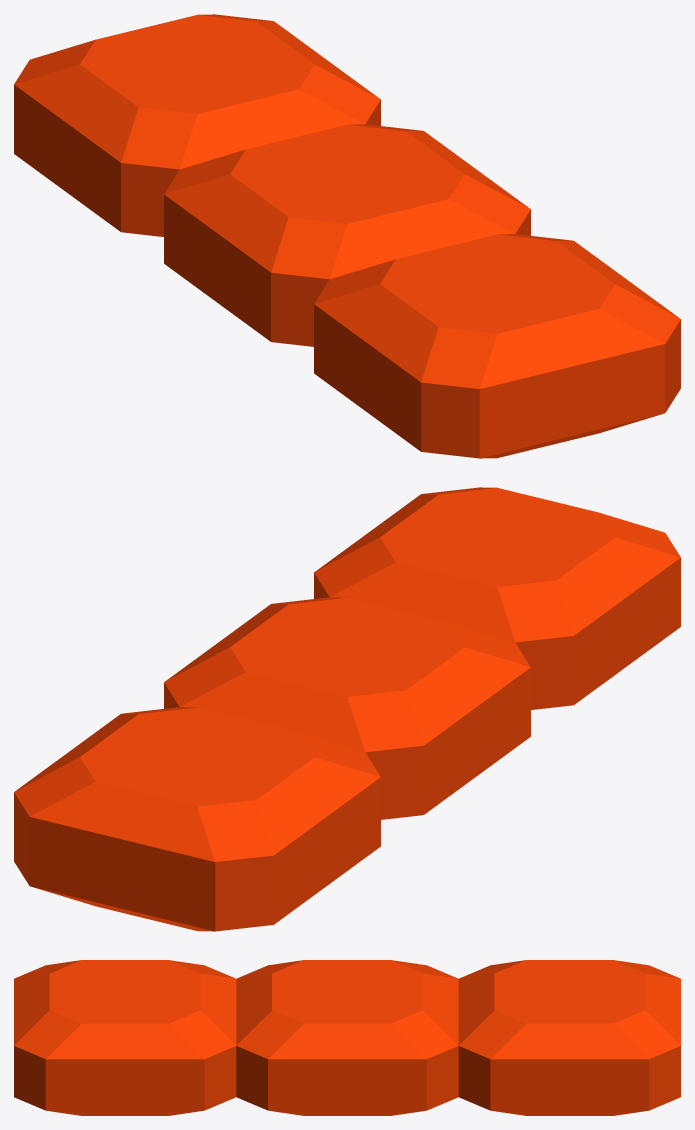
3 renders of one model, top to bottom at view 1: azimuth 30°, elevation 25°; view 2: azimuth 150°, elevation 25°; view 3: azimuth 270°, elevation 25°, orthographic. The views are drawn at different scales.
Visible parts, largest first — view 1: Cube.023; view 2: Cube.023; view 3: Cube.023.
Boxes of the visible parts, box(x1,y1,x2,y2) form: Cube.023: box(14, 14, 680, 458); Cube.023: box(14, 487, 680, 931); Cube.023: box(14, 960, 680, 1115).
Size of the model in its own units: 0.5 by 0.2288 by 1.5.
Materials: 1 (1 with a texture image).
